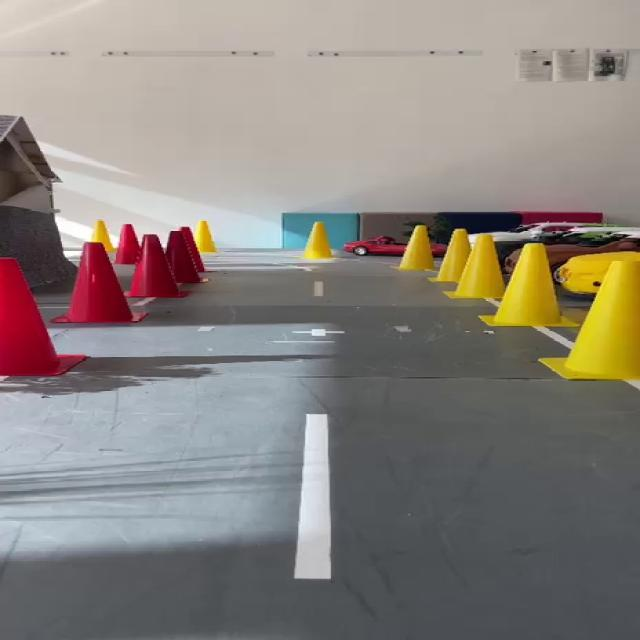Cone-red: (0, 258, 86, 376), (50, 242, 146, 323), (91, 356, 284, 377), (127, 235, 186, 298), (168, 232, 200, 285), (116, 224, 139, 265), (177, 368, 211, 377), (0, 318, 1, 329)
Cones-yellow: (539, 260, 639, 380), (480, 244, 578, 326), (450, 234, 503, 299), (433, 229, 469, 282), (400, 226, 433, 269), (303, 222, 331, 258)
